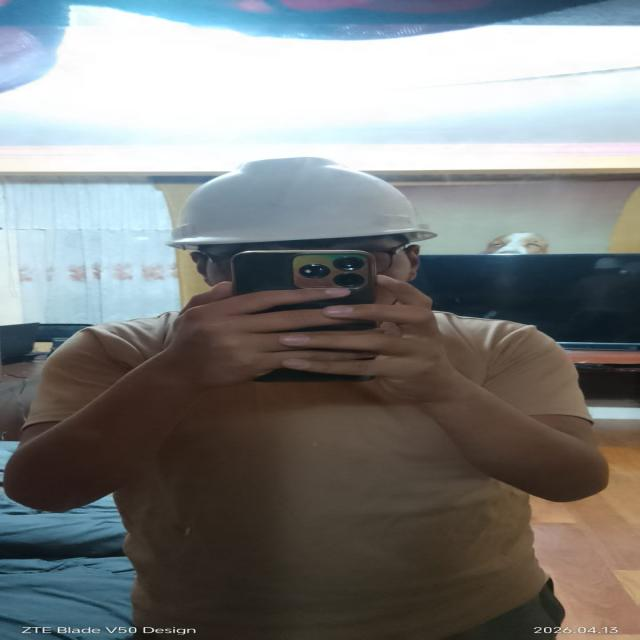casco: (151, 151, 453, 256)
